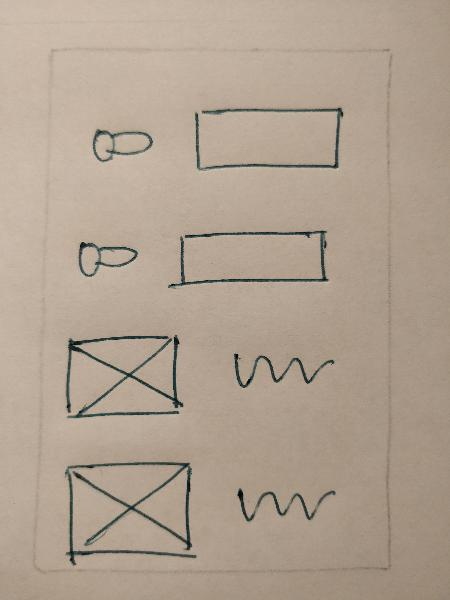image: (56, 455, 209, 567), (59, 328, 186, 426)
switch: (87, 119, 164, 167), (72, 234, 140, 286)
text: (224, 340, 340, 402), (232, 475, 337, 532)
text_input: (187, 102, 348, 175), (164, 229, 340, 289)
